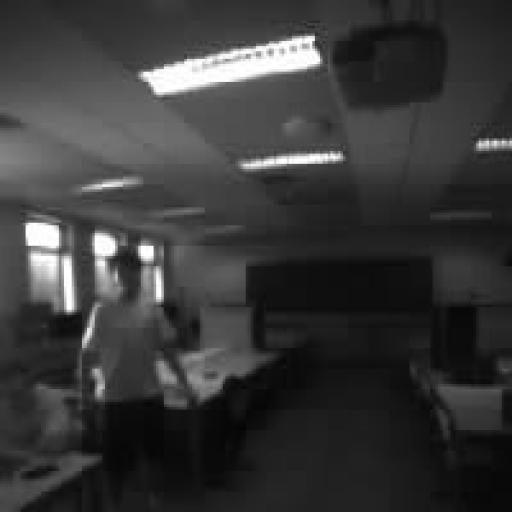human: (80, 246, 197, 509), (0, 364, 81, 458)
